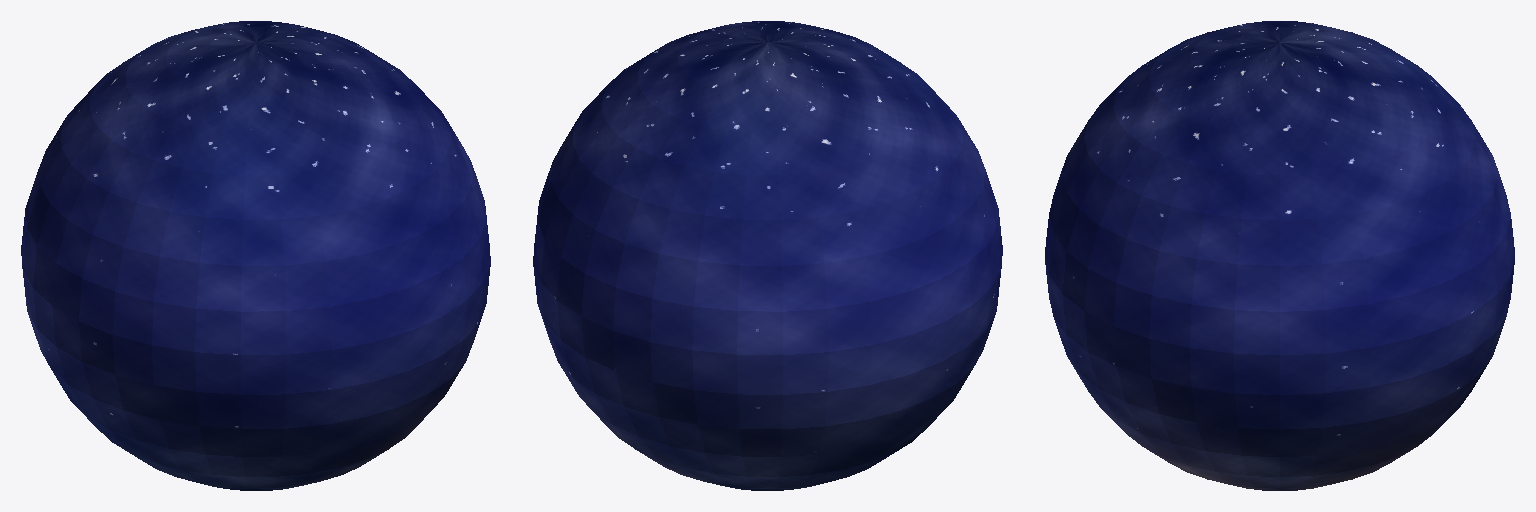
3 views of the same model, side by side, from view 1: azimuth 30°, elevation 25°; view 2: azimuth 150°, elevation 25°; view 3: azimuth 270°, elevation 25° (orthographic).
Parts seen in each view (by area): view 1: 球.001; view 2: 球.001; view 3: 球.001.
Part boxes in pixels (left/top/right/bottom): 球.001: left=21, top=21, right=490, bottom=490; 球.001: left=533, top=21, right=1002, bottom=490; 球.001: left=1045, top=21, right=1514, bottom=490.
Size of the model in its own units: 1000 by 1000 by 1000.
1 materials, 1 textured.